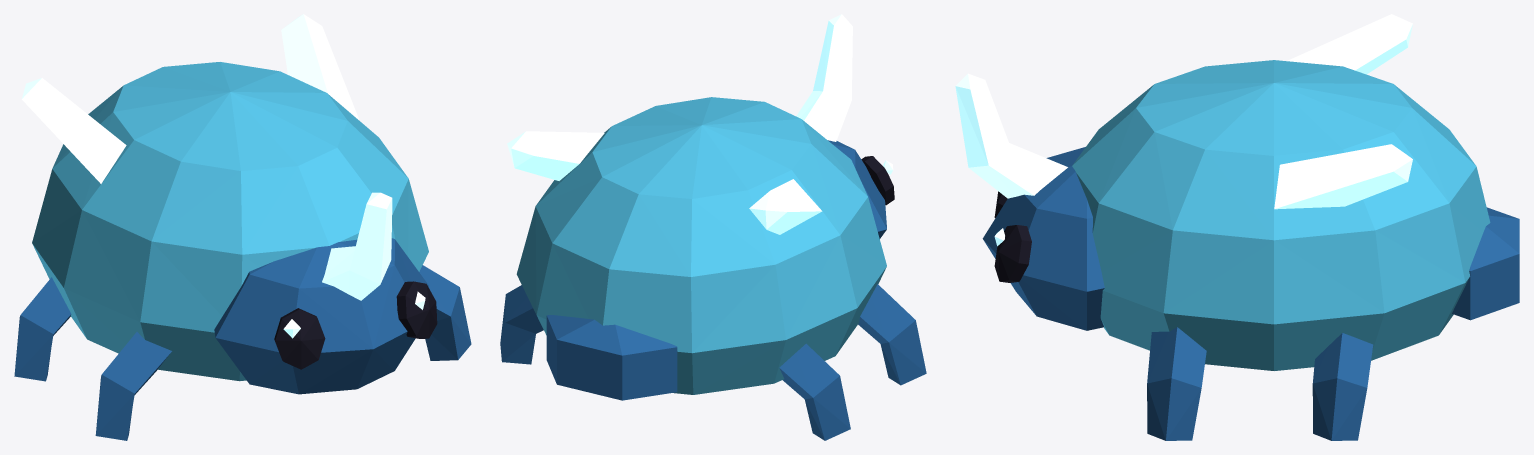
File: FrostBeetle.fbx
The picture shows the model from 3 angles, left to right: view 1: azimuth 30°, elevation 25°; view 2: azimuth 150°, elevation 25°; view 3: azimuth 270°, elevation 25°; orthographic projection. The views are drawn at different scales.
Visible parts, largest first — view 1: Body, Secondary, Accent, Eyes; view 2: Body, Secondary, Accent, Eyes; view 3: Body, Secondary, Accent, Eyes.
Part boxes in pixels (bbox=[...]): Body: bbox=[32, 62, 428, 381]; Secondary: bbox=[14, 238, 471, 440]; Accent: bbox=[21, 14, 425, 338]; Eyes: bbox=[274, 281, 437, 369]; Body: bbox=[516, 97, 886, 394]; Secondary: bbox=[500, 140, 926, 440]; Accent: bbox=[507, 14, 893, 234]; Eyes: bbox=[861, 156, 894, 205]; Body: bbox=[1072, 60, 1490, 370]; Secondary: bbox=[982, 147, 1519, 440]; Accent: bbox=[955, 14, 1412, 246]; Eyes: bbox=[994, 191, 1031, 282].
Bounding box in the file's own units: 2.89 × 2.05 × 3.68.
